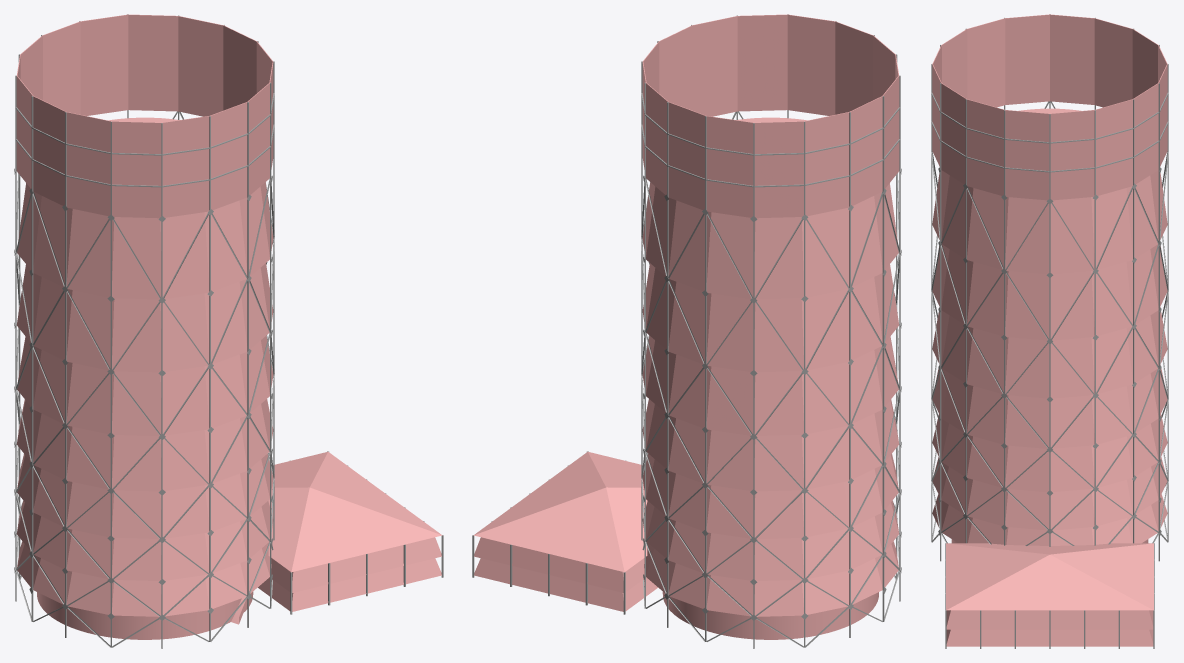
File: 03-accumulator.glb
The picture shows the model from 3 angles, left to right: view 1: azimuth 30°, elevation 25°; view 2: azimuth 150°, elevation 25°; view 3: azimuth 270°, elevation 25°; orthographic projection. The views are drawn at different scales.
Size of what is drawn, in the model's own units: 53000 by 75061 by 34000.
